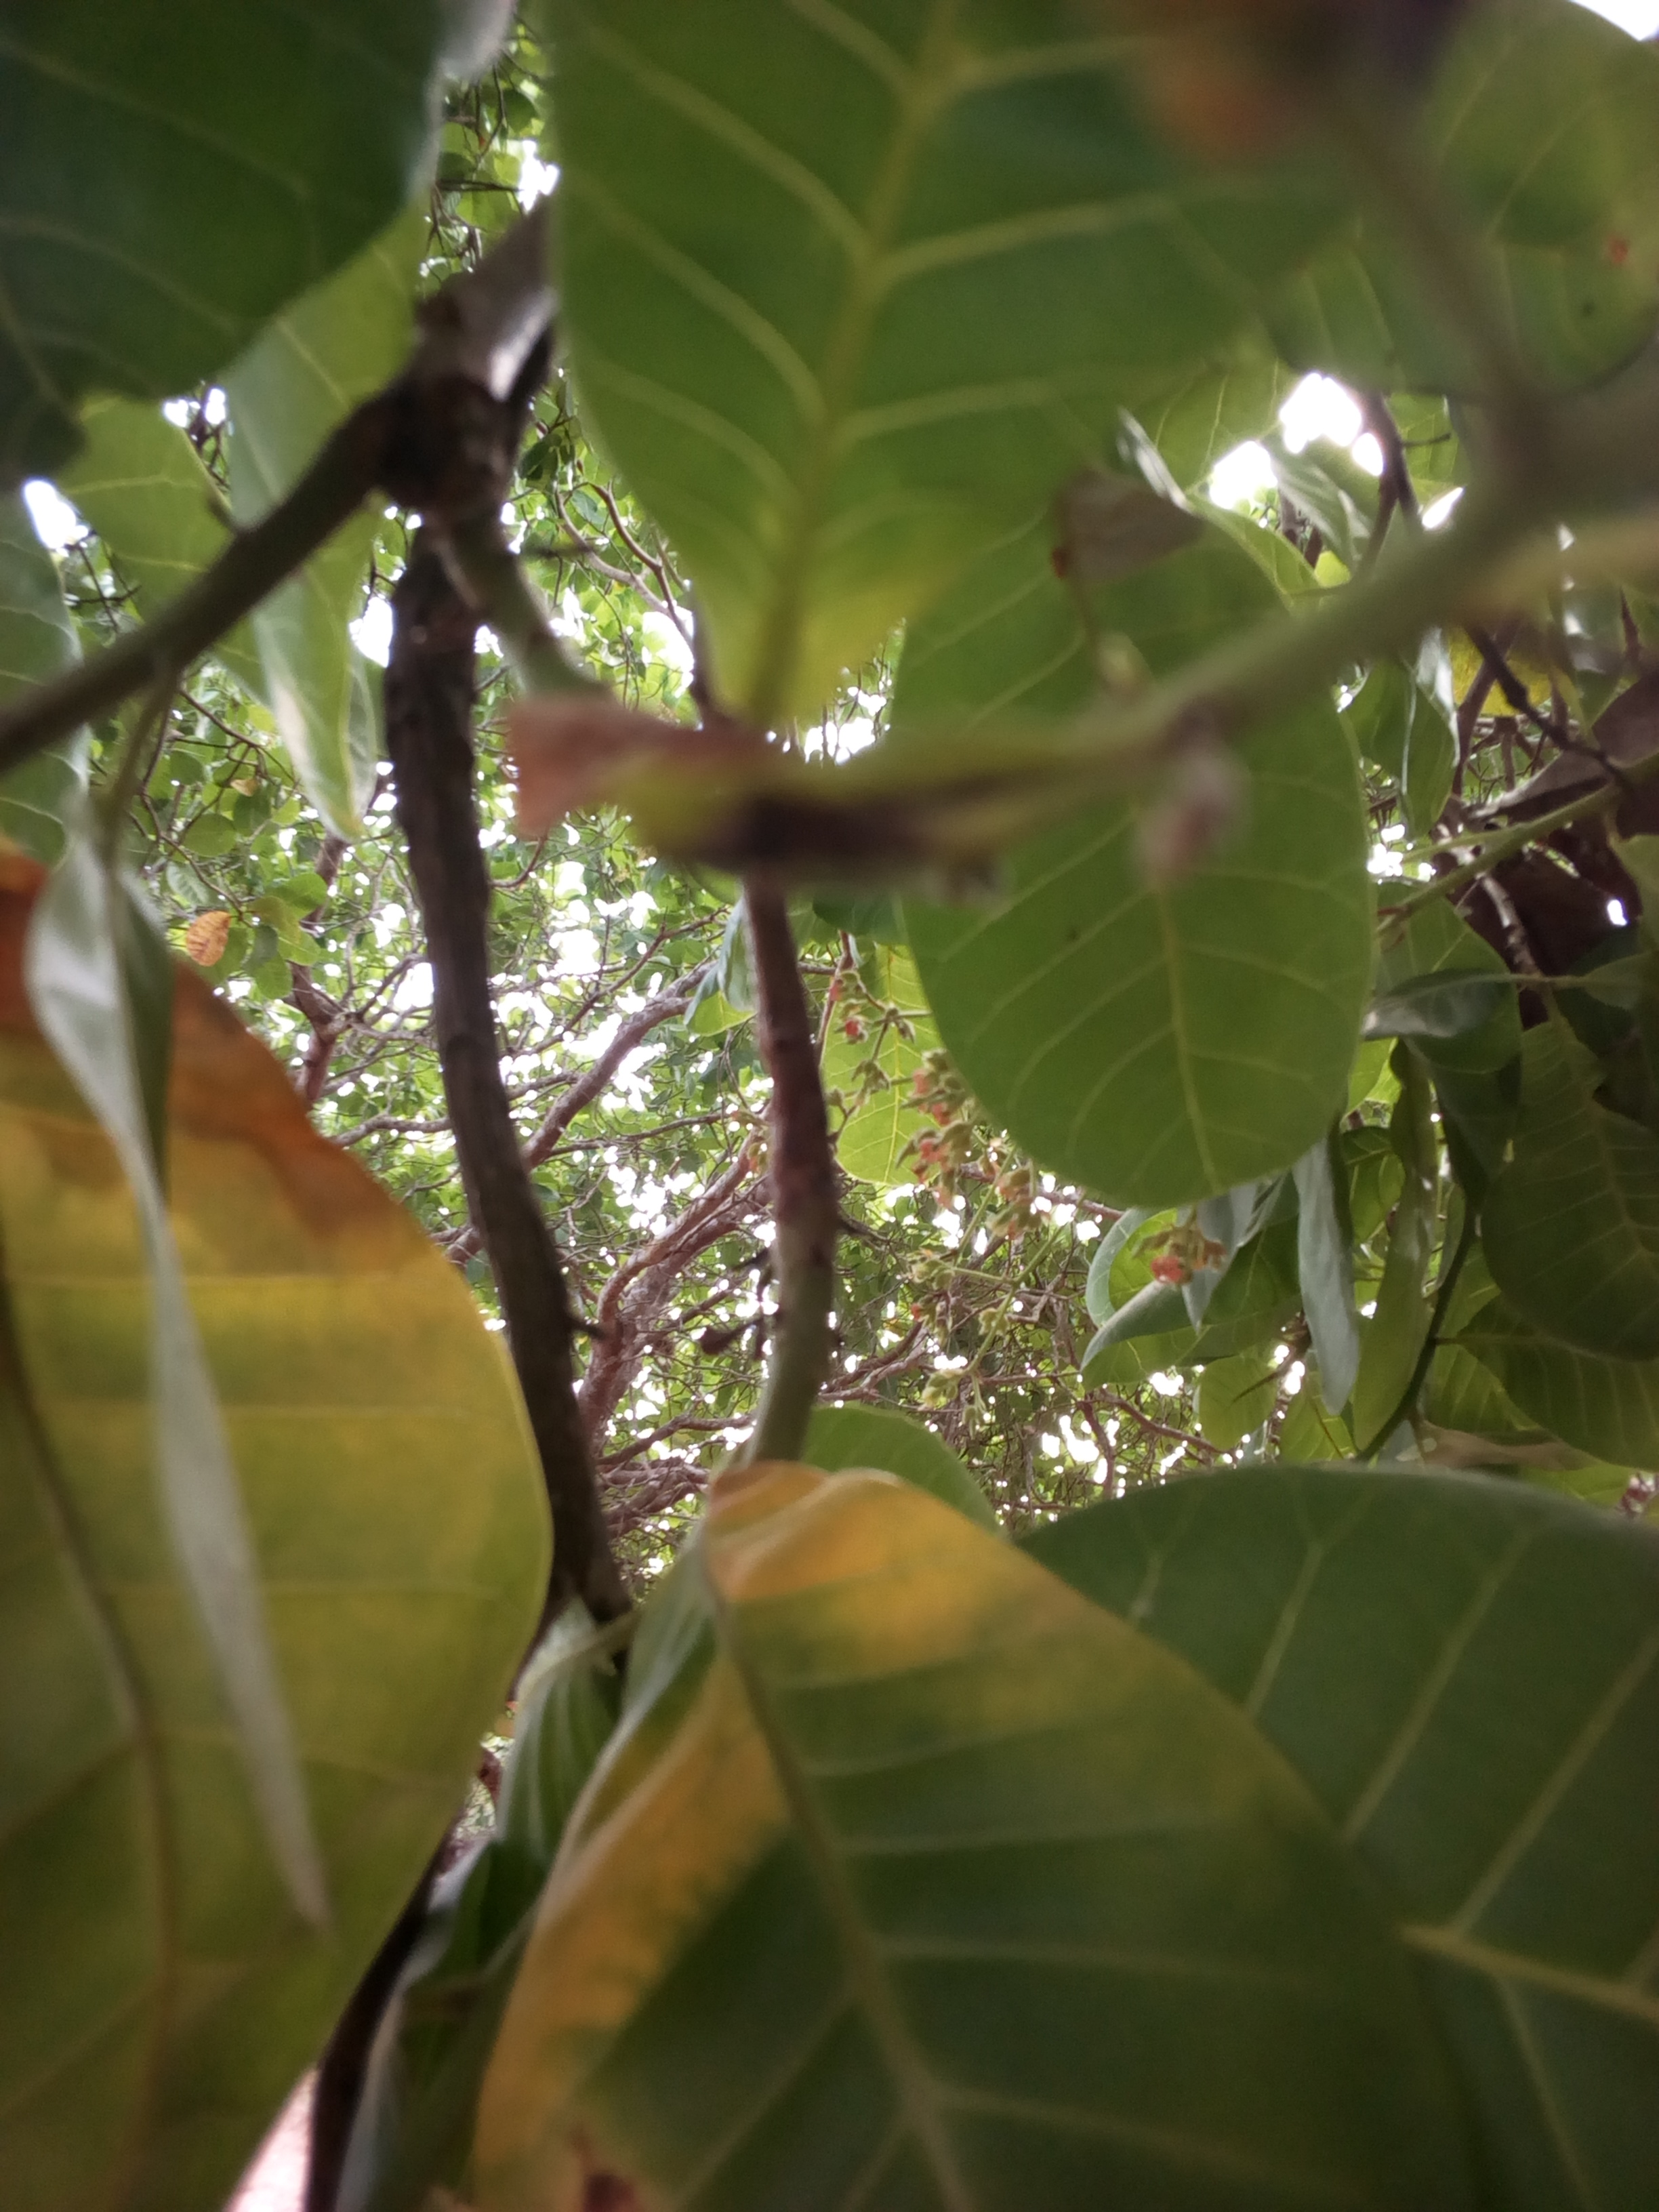Dessèchement des bourgeons: (507, 651, 1107, 909)
